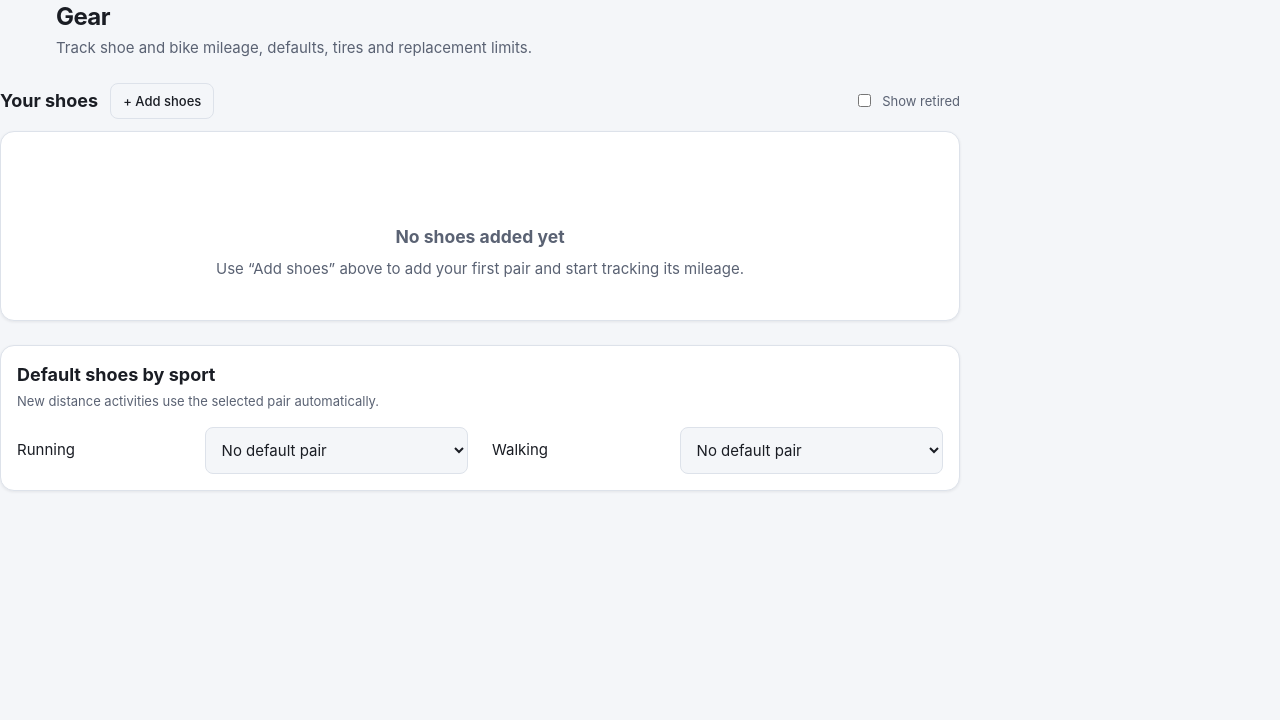
Test: GearPage › shows the shoe inventory and the sport defaults, with the add form in its own popup when open
The image size is (1280, 720).
Expected: the headings read "Your shoes", "Default shoes by sport", in this order, [0,88,98,114]; [17,364,216,385]
Click the button "+ Add shoes" at (162, 101), box [110,82,214,119]
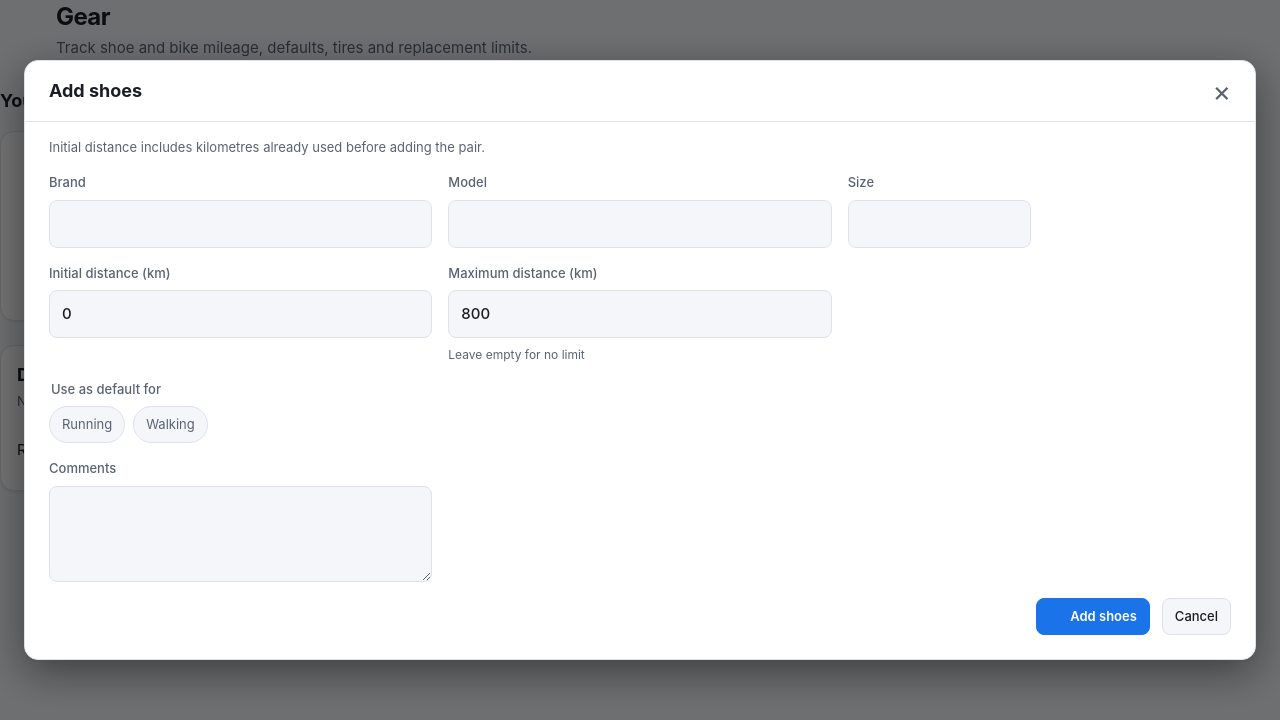
Expected: the headings read "Your shoes", "Default shoes by sport", "Add shoes", in this order, [0,88,98,114]; [17,364,216,385]; [49,78,142,104]
